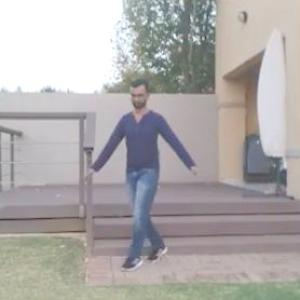land: (93, 86, 207, 274)
